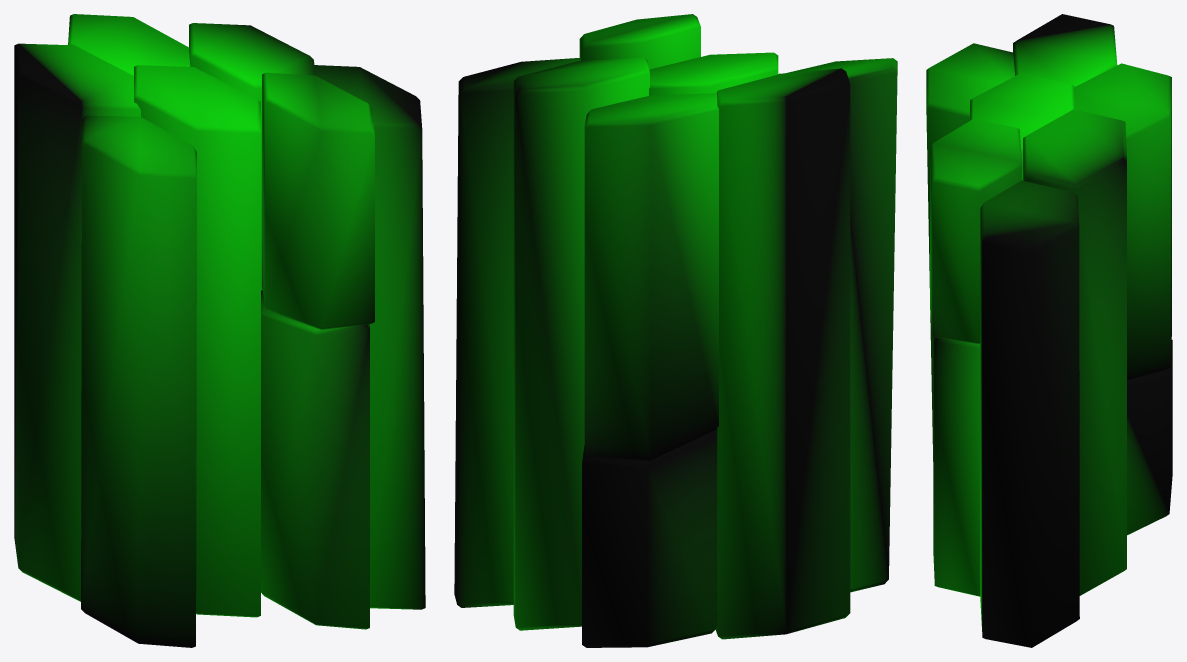
Rendered from SM_RockHexic_RockSlanted05.fbx.
3 renders of one model, left to right at view 1: azimuth 30°, elevation 25°; view 2: azimuth 150°, elevation 25°; view 3: azimuth 270°, elevation 25°, orthographic. The views are drawn at different scales.
Parts seen in each view (by area): view 1: SM_RockHexic_RockSlanted05; view 2: SM_RockHexic_RockSlanted05; view 3: SM_RockHexic_RockSlanted05.
Part boxes in pixels (<box>): SM_RockHexic_RockSlanted05: <box>14,14,425,647</box>; SM_RockHexic_RockSlanted05: <box>454,14,897,647</box>; SM_RockHexic_RockSlanted05: <box>926,14,1172,647</box>.
Size of the model in its own units: 1267 by 852 by 1848.
